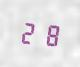eight: (39, 19, 58, 48)
two: (19, 18, 38, 46)
